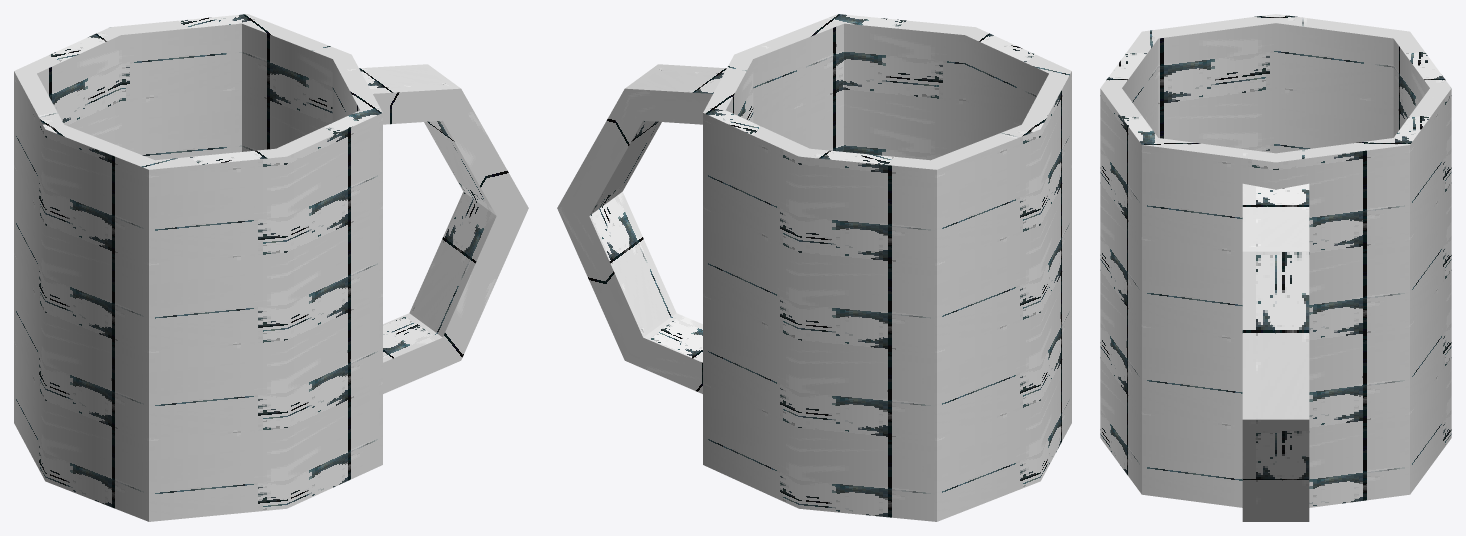
The model's file is Mug.FBX.
The picture shows the model from 3 angles, left to right: view 1: azimuth 30°, elevation 25°; view 2: azimuth 150°, elevation 25°; view 3: azimuth 270°, elevation 25°; orthographic projection.
Visible parts, largest first — view 1: Mug; view 2: Mug; view 3: Mug.
Boxes of the visible parts, x1=… form: Mug: x1=14, y1=14, x2=528, y2=521; Mug: x1=557, y1=14, x2=1071, y2=521; Mug: x1=1100, y1=14, x2=1451, y2=521.
Bounding box in the file's own units: 0.554 × 0.3636 × 0.3993.
1 material, 1 textured.
